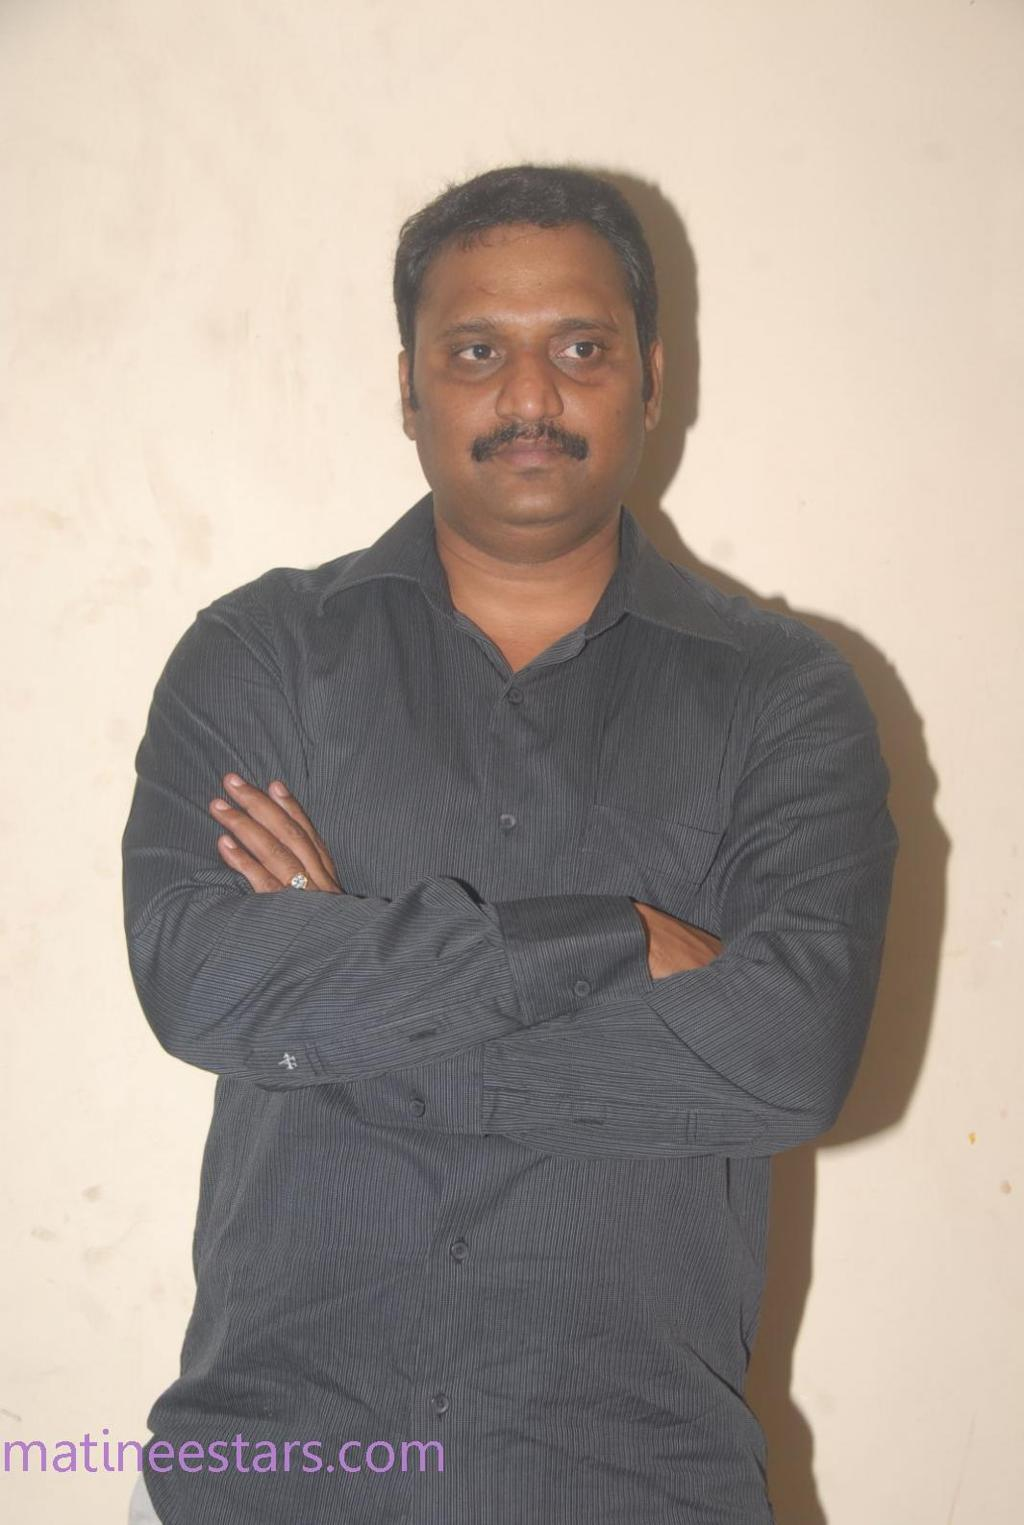face: (429, 211, 646, 527)
